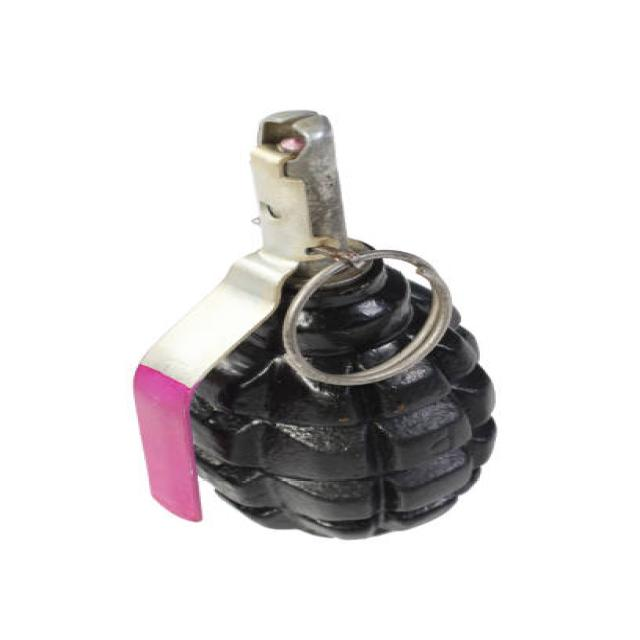grenade: (119, 98, 509, 558)
